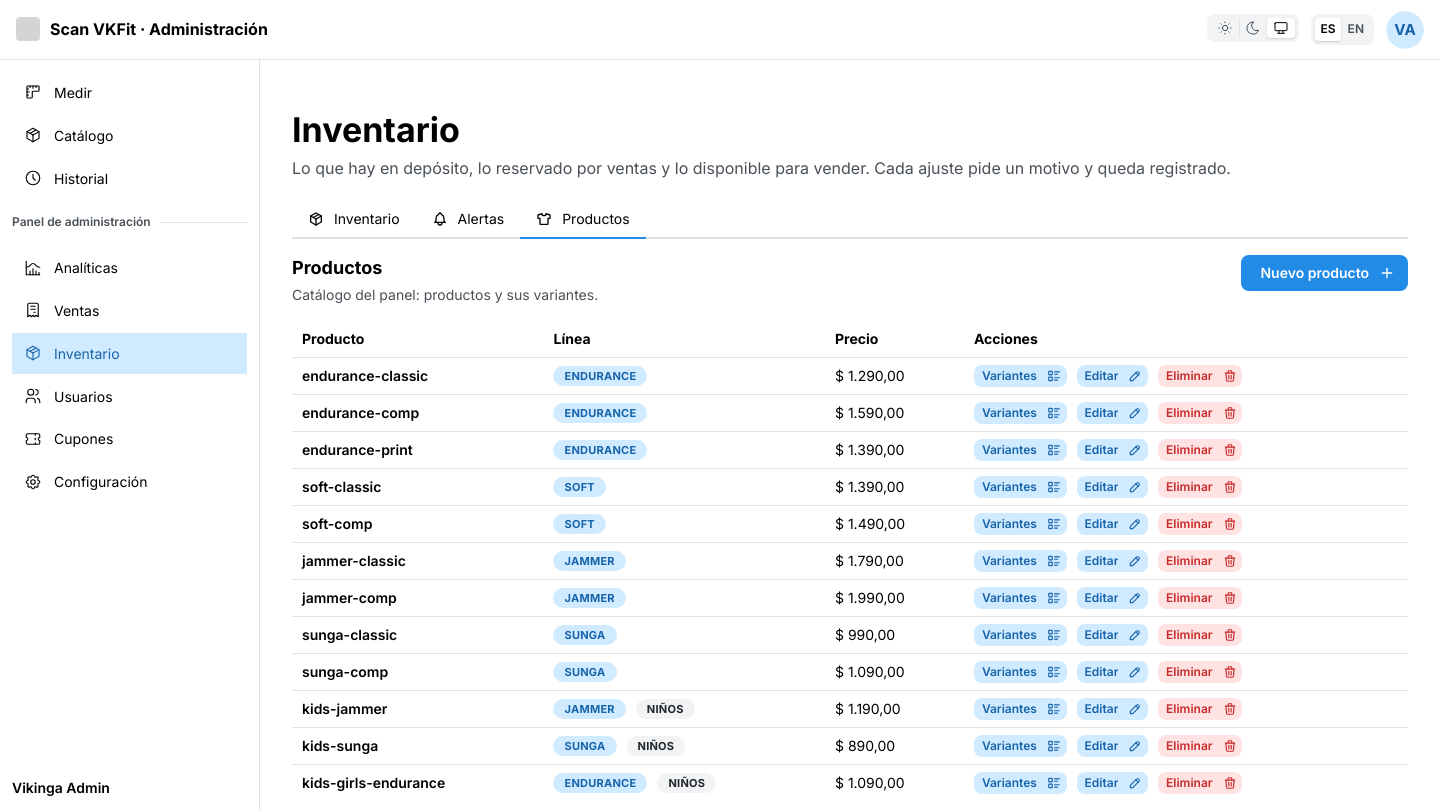
Test: catálogo del panel › crea un producto y lo da de baja sin borrarlo
This screenshot has width=1440, height=810.
Expected: the text "endurance-classic" is shown, [302, 367, 428, 384]
Click the button "Nuevo producto" at (1325, 273), box [1242, 255, 1408, 291]
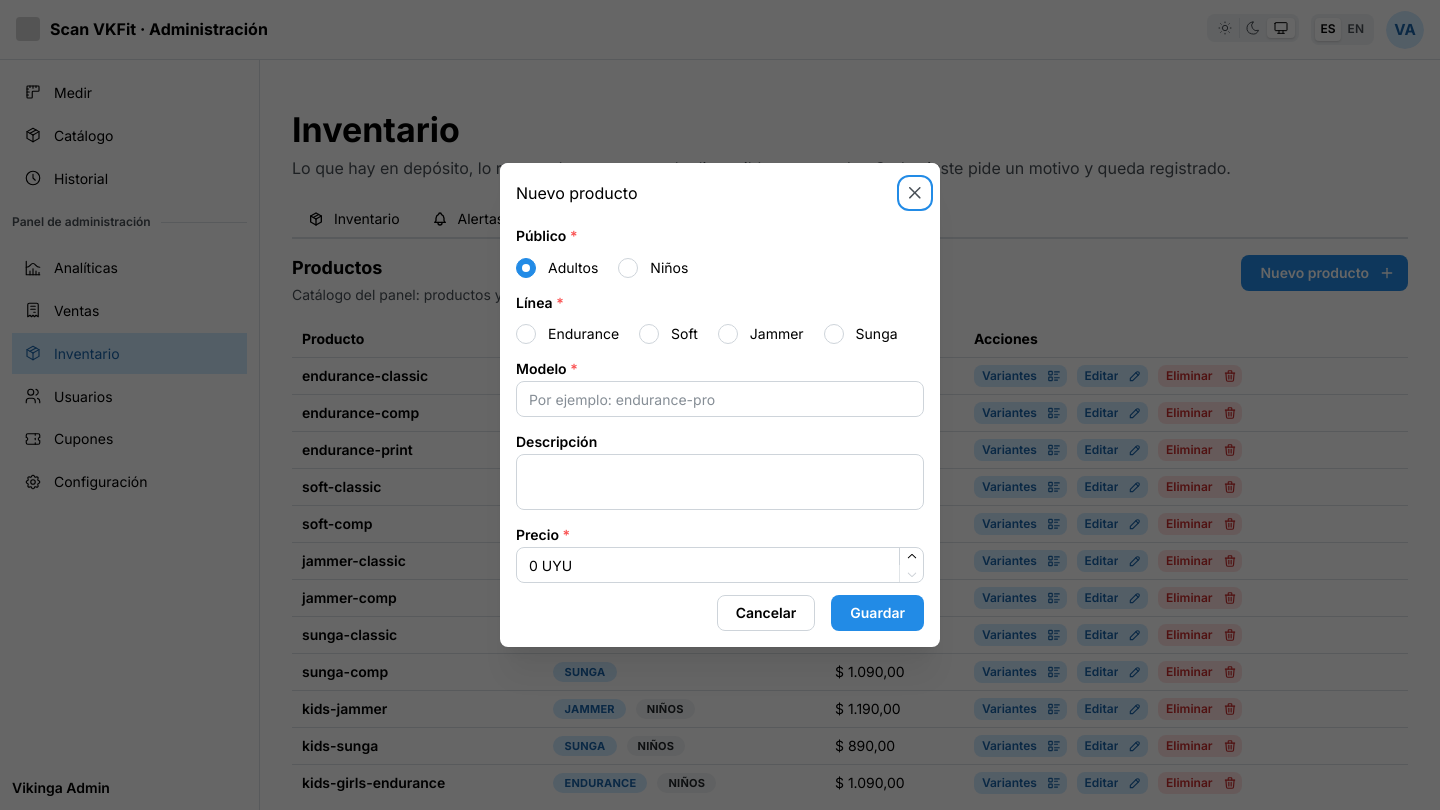
Click the radio button labelled "Sunga" at (834, 334), box [824, 324, 844, 344]
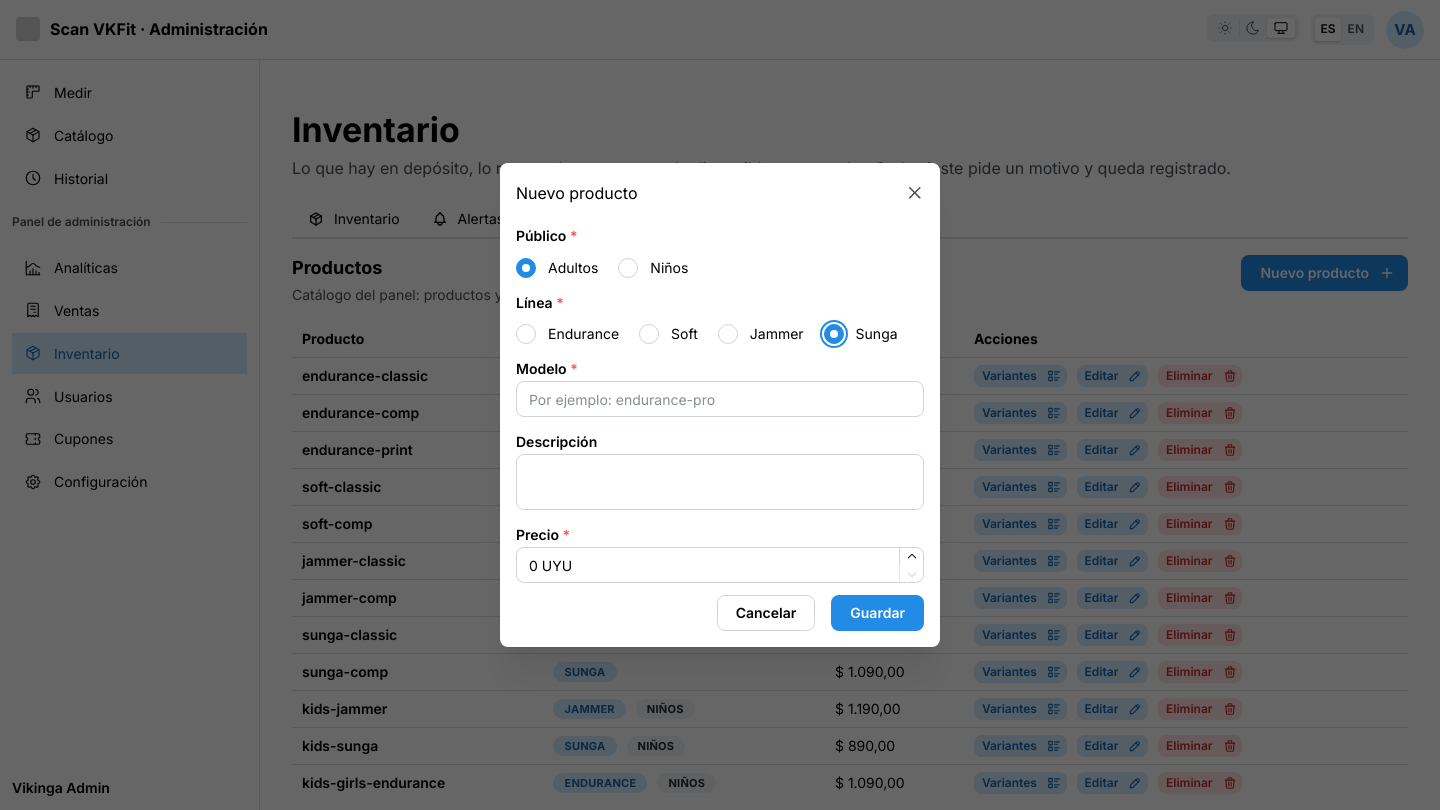
Type "sunga-pro" into the field labelled "Modelo *" at (720, 399), box [516, 381, 924, 417]
Replace the text in the field labelled "Precio *" with "1250" at (720, 565), box [516, 547, 924, 583]
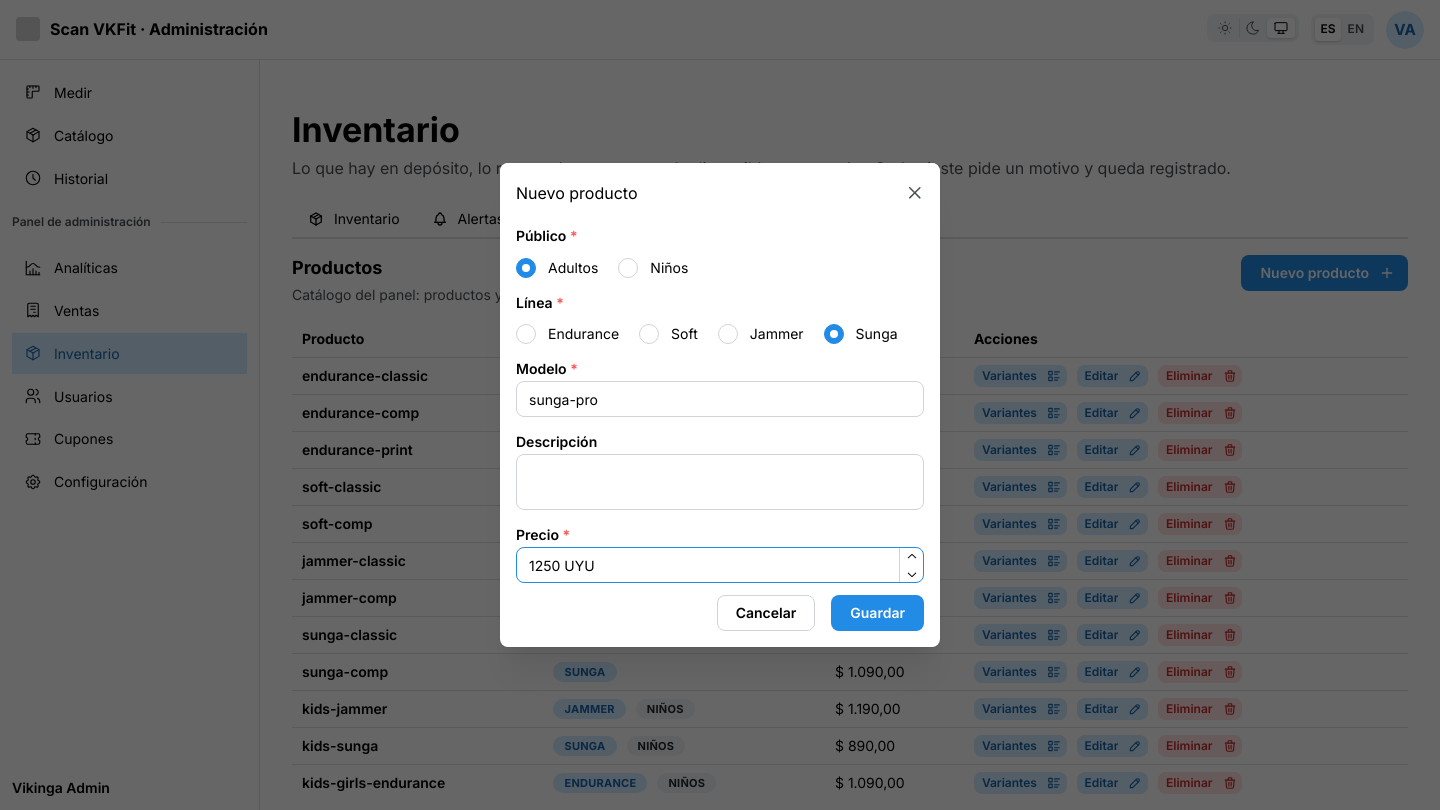
Click the button "Guardar" at (878, 613), box [831, 595, 924, 631]
(page scrolled)
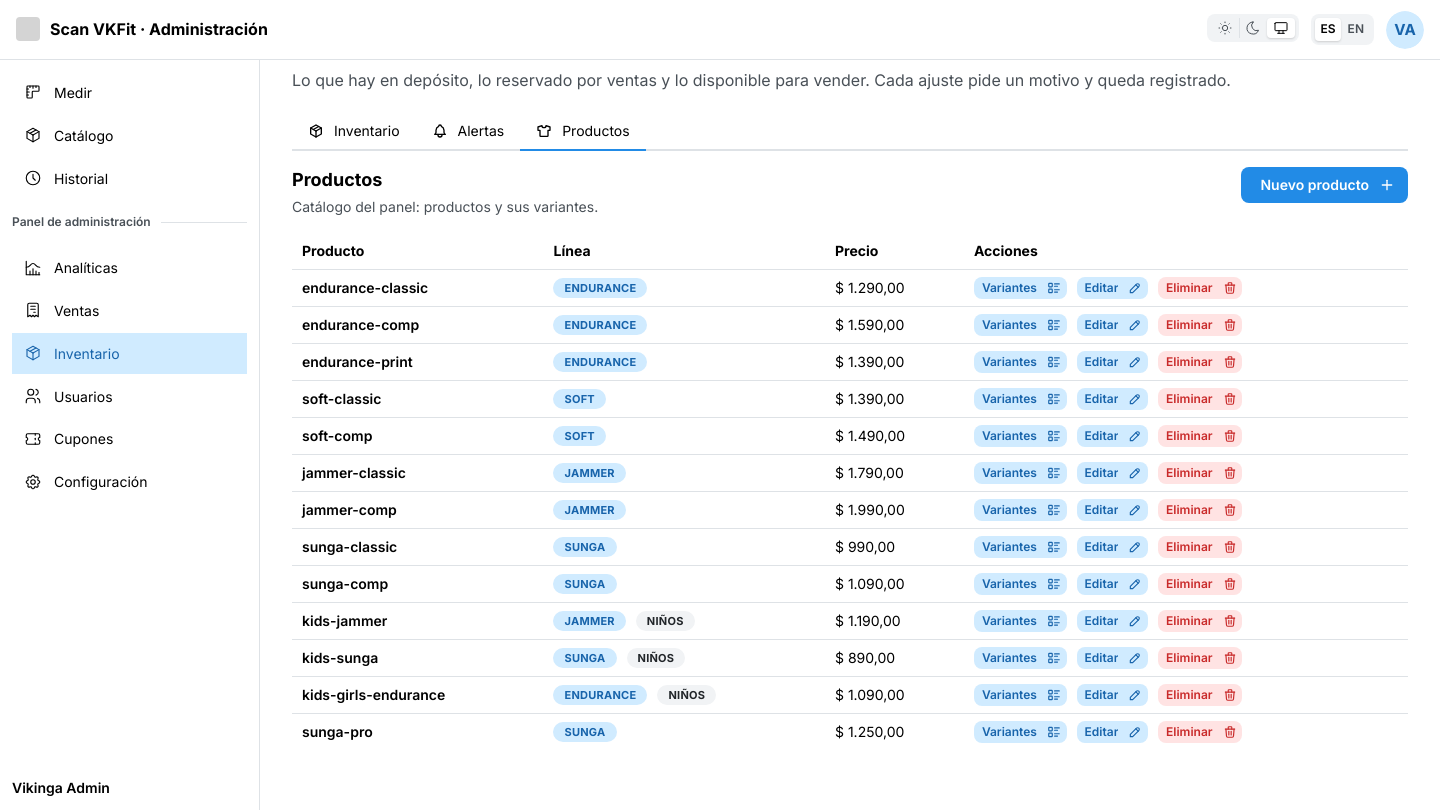
Now the text "sunga-pro" is shown, box [302, 723, 373, 740]
// Baja lógica: el último producto de la lista es el recién creado.
Click the button "Eliminar" in the row of "sunga-pro" at (1200, 732), box [1158, 721, 1242, 743]
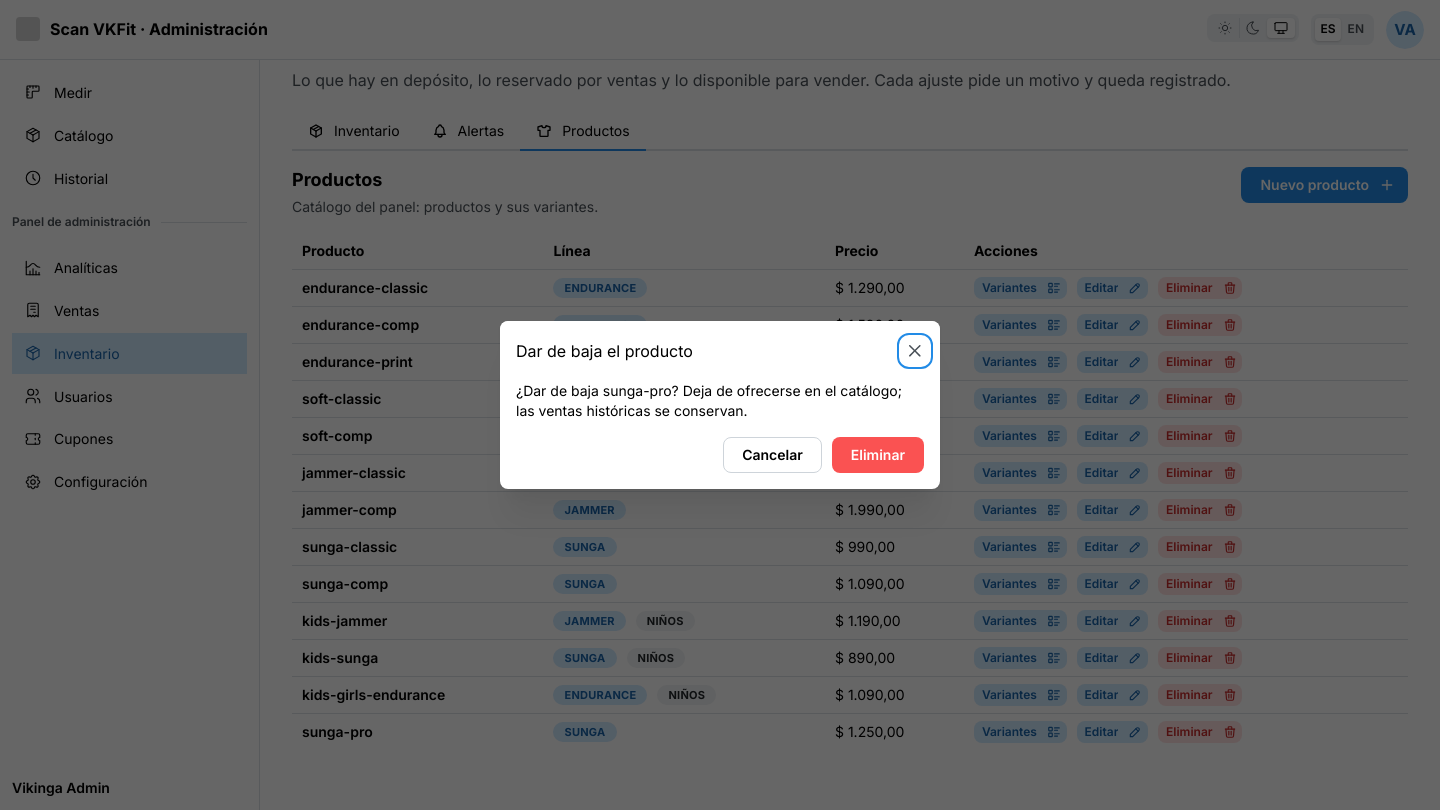
Click the button "Eliminar" at (878, 455), box [832, 437, 924, 473]
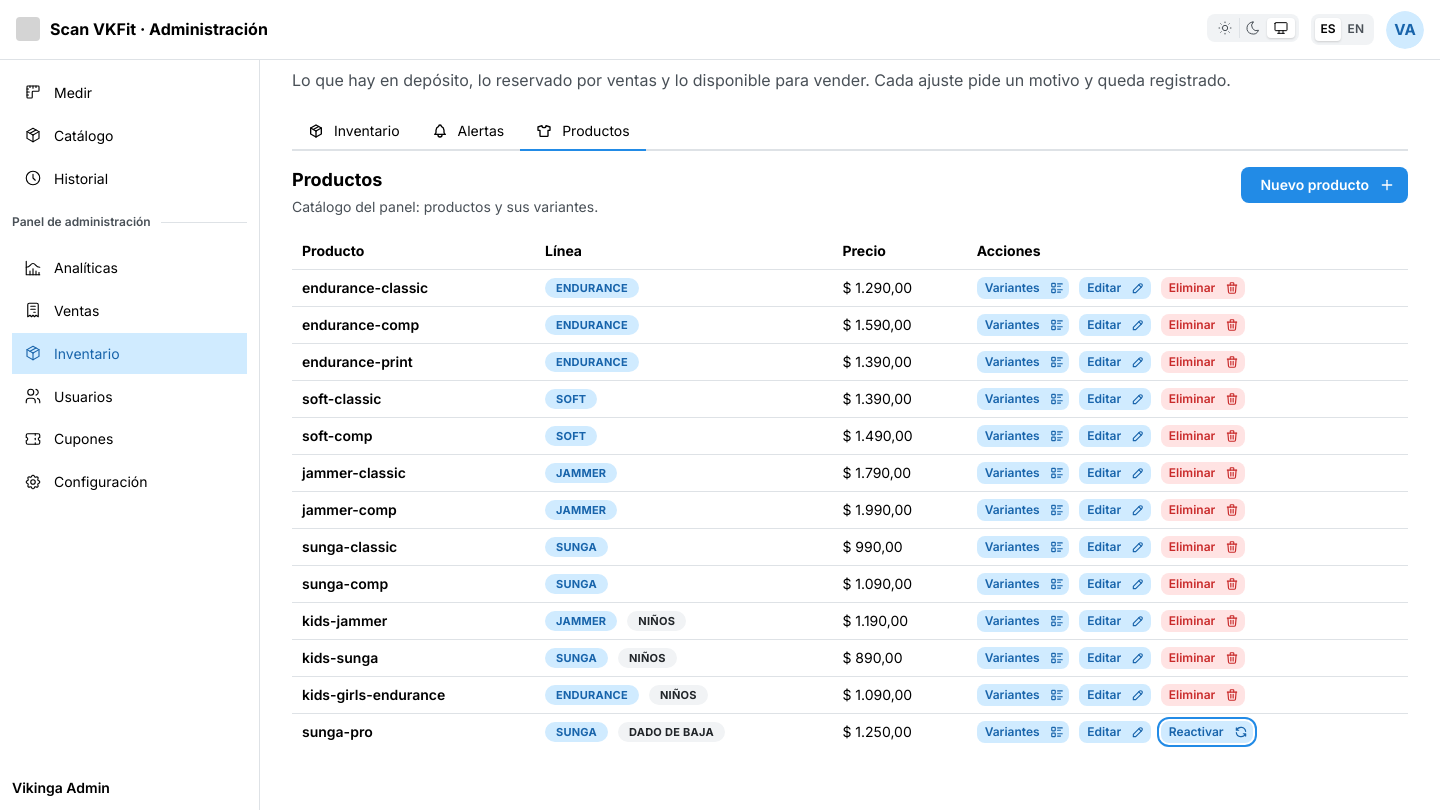
Now the text "sunga-pro" is shown, box [302, 723, 373, 740]
Now the text "Dado de baja" is shown, box [629, 723, 714, 741]
